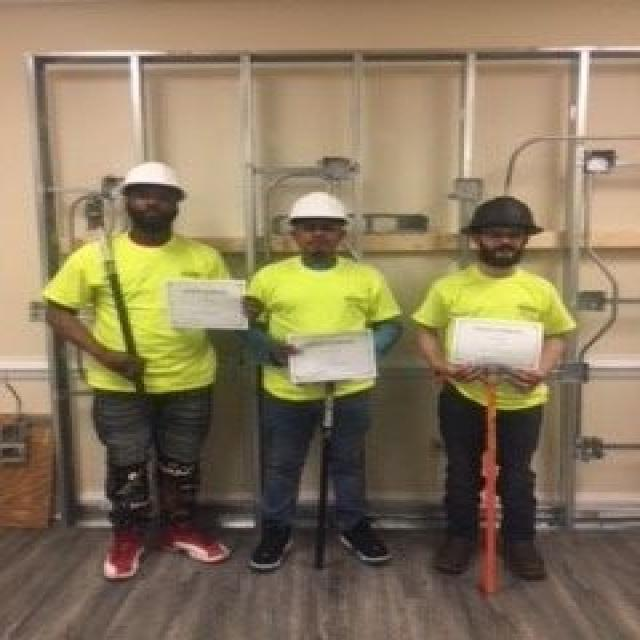helmet: (459, 259, 550, 357), (120, 213, 192, 307), (286, 251, 353, 344)
